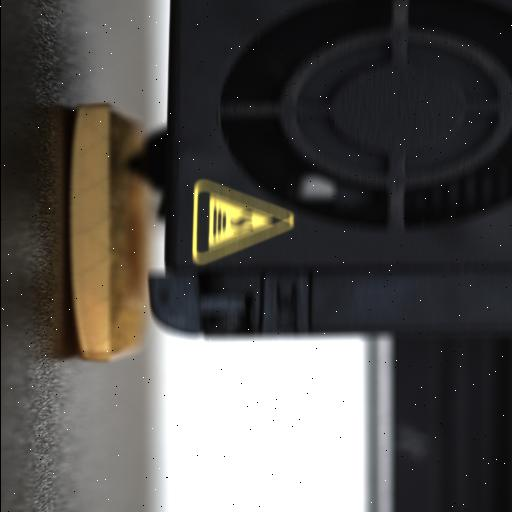warp: (62, 96, 94, 160), (66, 315, 100, 365)
